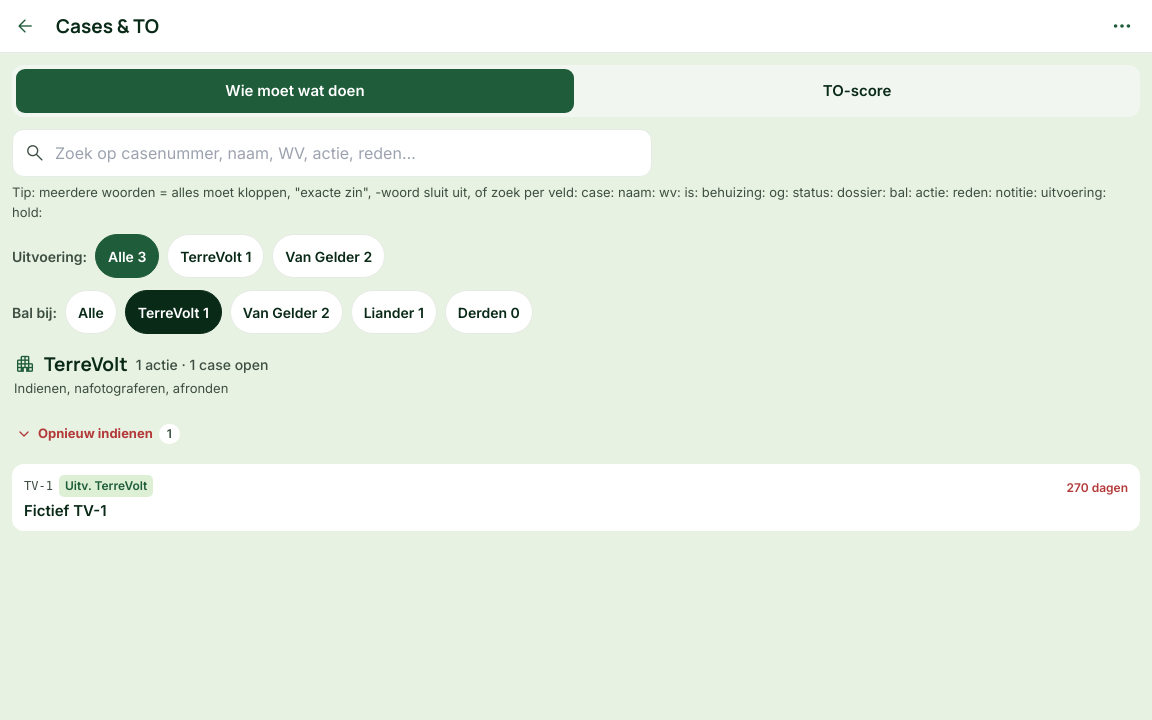
it: Cases-pagina › mobile: compact header with action menu and one work list; score as cards with case, TO status, dossier and party
Expected: the button named "Meer acties" is shown, [1100,4,1144,48]
Click the tab "TO-score": [857, 91] box [578,69,1136,113]
(page scrolled)
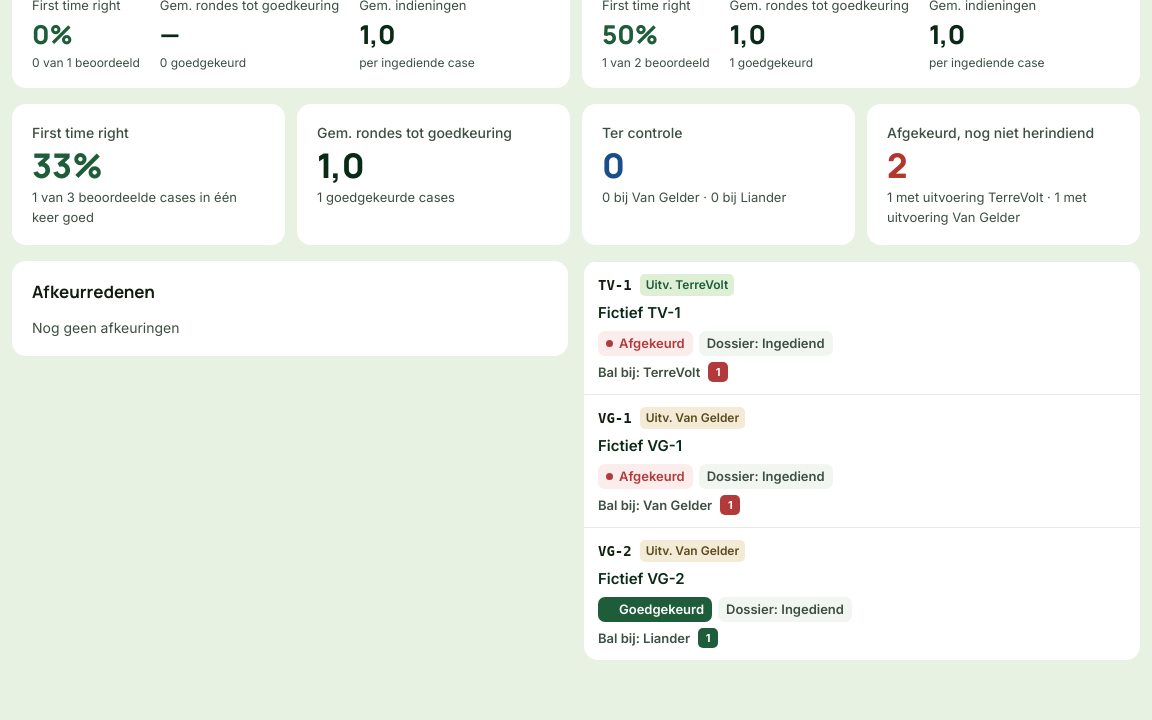
Expected: the text "Afgekeurd" is shown, [598,331,693,356]
Expected: the 1st text "Dossier: Ingediend" is shown, [699,331,833,356]
Expected: the text "Bal bij: TerreVolt" is shown, [598,363,700,382]
